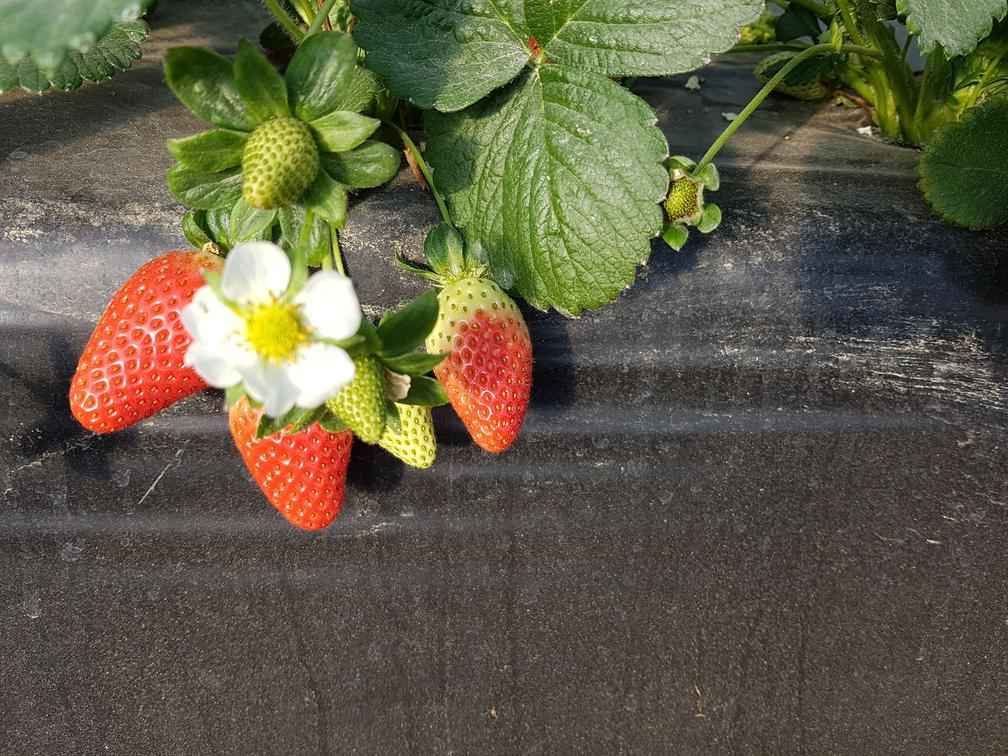Ripe: (66, 246, 228, 436), (231, 389, 346, 537), (435, 296, 534, 453)
Unripe: (241, 115, 323, 209), (345, 360, 390, 450), (393, 396, 440, 476), (669, 177, 700, 223)
